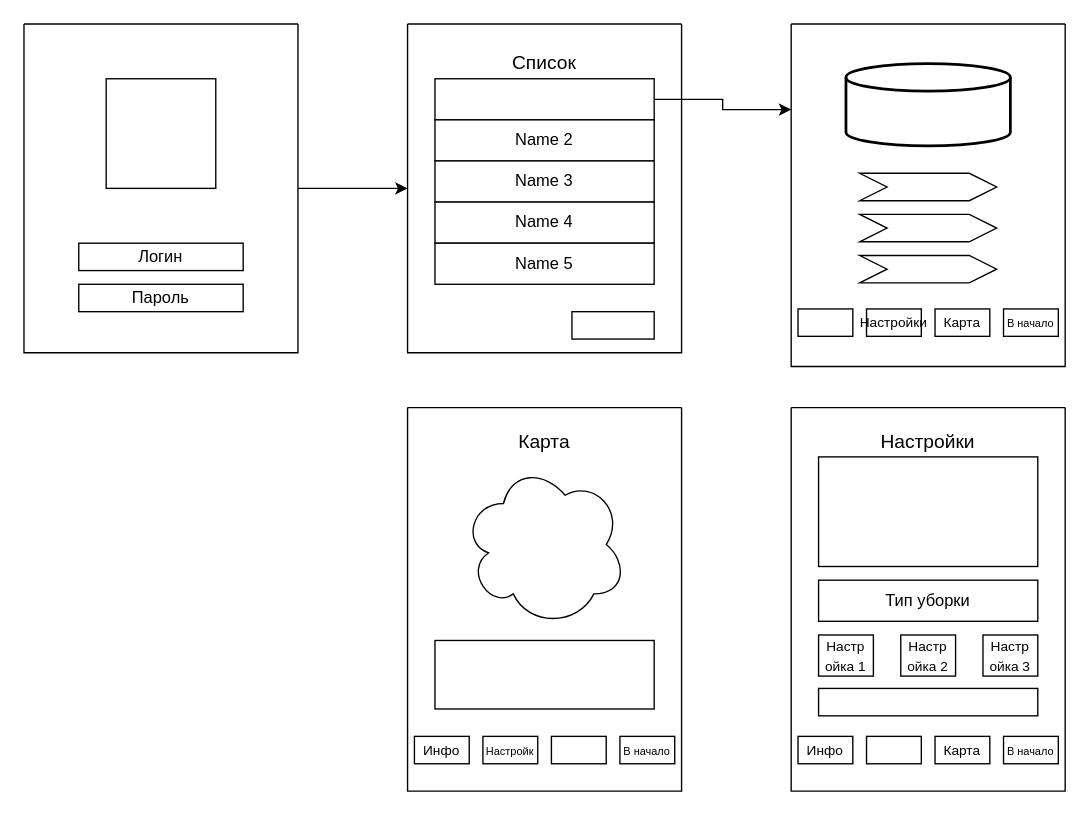
This 1089x815 diagram has some shape labels left out. The shapes that lost their labels are listed below. From the top down, each one's centre as x and y in pixels, then its label:
At point 544,98: "Name 1".
At point 160,132: "Лого".
At point 612,324: "Поиск".
At point 927,511: "Расписание".
At point 544,674: "Лог работы".
At point 927,701: "Обновление".
